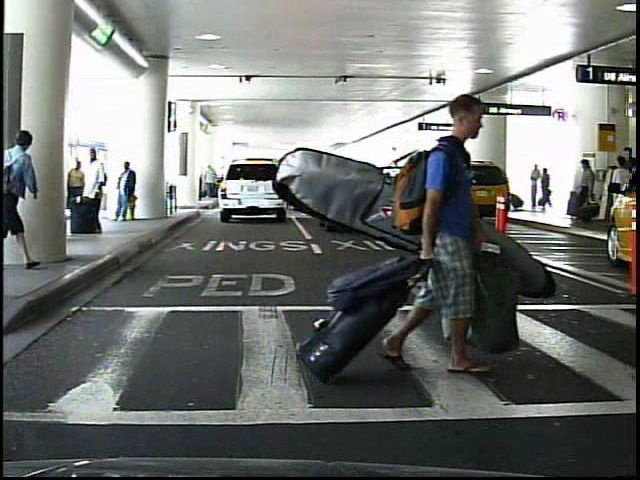person: (387, 80, 496, 382), (83, 146, 108, 237), (602, 153, 630, 232), (113, 159, 138, 226), (572, 158, 595, 225), (65, 158, 86, 231), (620, 142, 635, 231), (526, 162, 542, 210), (538, 168, 549, 212)
